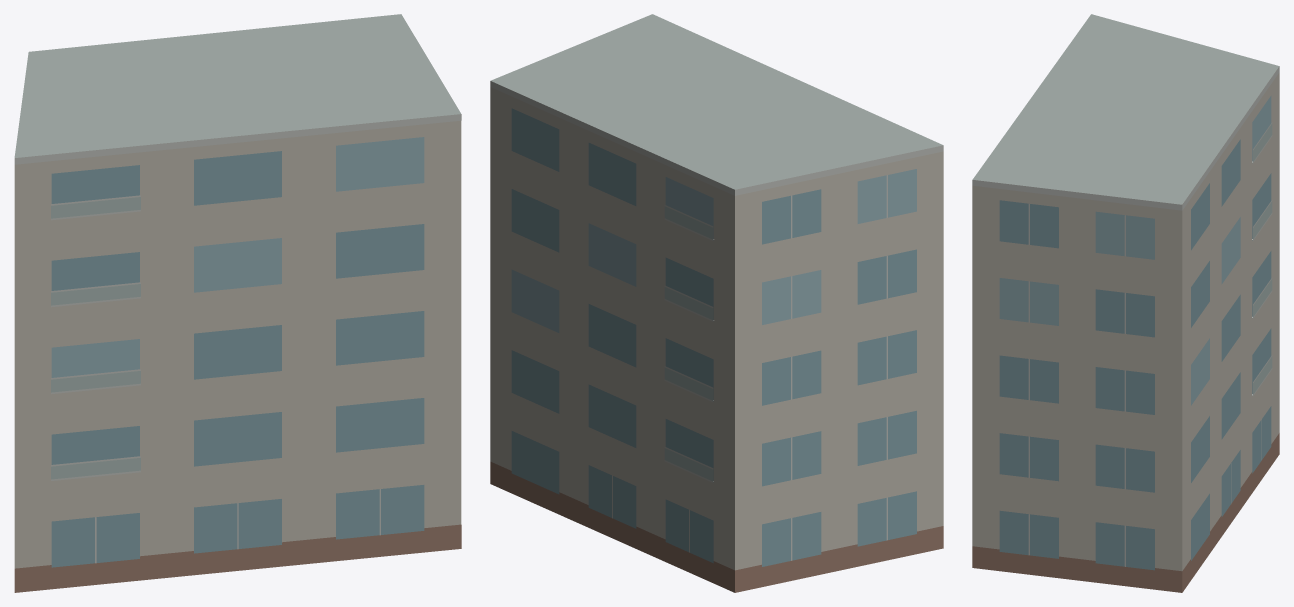
The model's file is survey-upis-32871954.glb.
3 views of the same model, side by side, from view 1: azimuth 30°, elevation 25°; view 2: azimuth 150°, elevation 25°; view 3: azimuth 270°, elevation 25° (orthographic). The views are drawn at different scales.
Parts seen in each view (by area): view 1: survey-upis-32871954.tmp; view 2: survey-upis-32871954.tmp; view 3: survey-upis-32871954.tmp.
Boxes of the visible parts, x1,y1,x2,y2 form: survey-upis-32871954.tmp: (14,14,461,592); survey-upis-32871954.tmp: (490,14,943,592); survey-upis-32871954.tmp: (972,14,1279,592).
Bounding box in the file's own units: 16.88 × 16 × 11.48.
